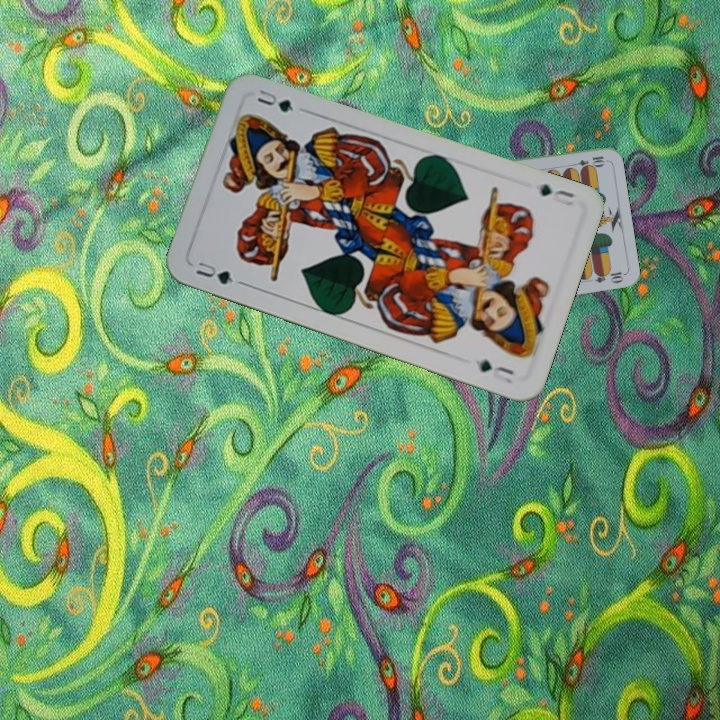E10: (566, 152, 607, 170)
GU: (192, 258, 236, 287), (535, 180, 577, 209)
